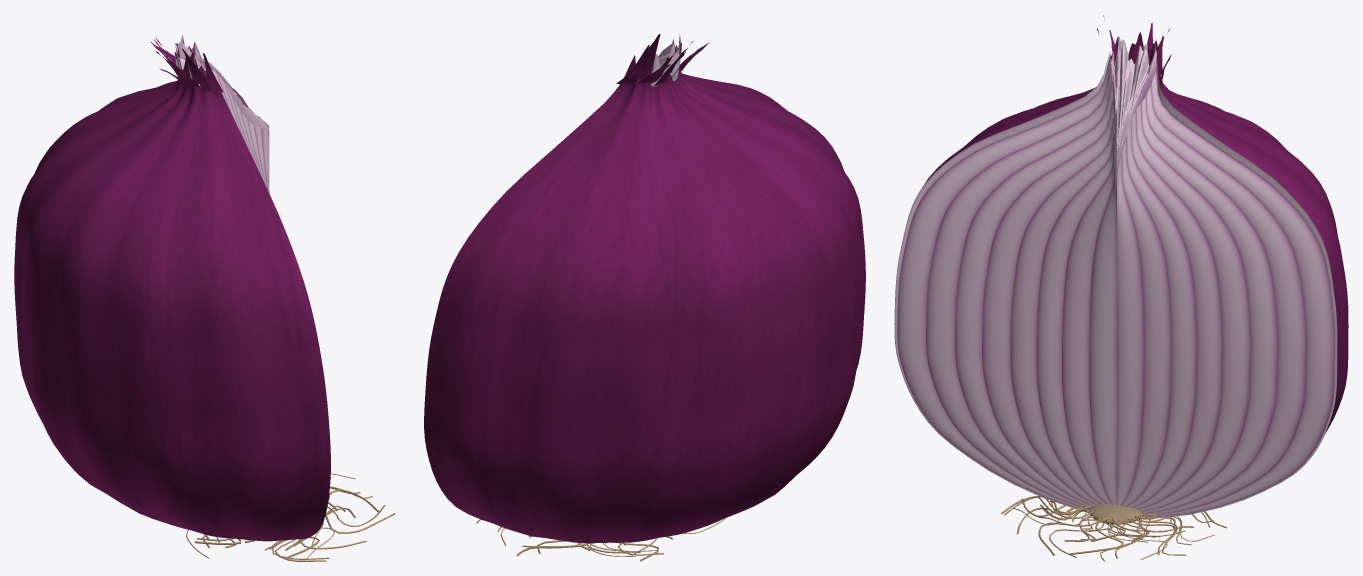
File: onion-reference-cutaway.glb
3 renders of one model, left to right at view 1: azimuth 30°, elevation 25°; view 2: azimuth 150°, elevation 25°; view 3: azimuth 270°, elevation 25°, orthographic. The views are drawn at different scales.
Visible parts, largest first — view 1: peelable-layer-0, root-fibers, papery-neck-frays; view 2: peelable-layer-0, papery-neck-frays, root-fibers; view 3: peelable-layer-1, peelable-layer-2, peelable-layer-3, peelable-layer-4, peelable-layer-5, peelable-layer-6, peelable-layer-7, peelable-layer-0, core, root-fibers, basal-root-plate.
Part boxes in pixels (x1,y1,x2,y2): peelable-layer-0: [14, 35, 330, 541]; root-fibers: [186, 473, 395, 561]; papery-neck-frays: [151, 37, 222, 93]; peelable-layer-0: [424, 34, 865, 543]; papery-neck-frays: [616, 34, 709, 86]; root-fibers: [476, 518, 725, 561]; peelable-layer-1: [897, 45, 1334, 517]; peelable-layer-2: [926, 57, 1305, 515]; peelable-layer-3: [955, 72, 1277, 513]; peelable-layer-4: [982, 87, 1250, 511]; peelable-layer-5: [1010, 99, 1222, 509]; peelable-layer-6: [1036, 115, 1196, 507]; peelable-layer-7: [1062, 128, 1171, 506]; peelable-layer-0: [894, 32, 1348, 519]; core: [1089, 142, 1144, 505]; root-fibers: [1001, 496, 1227, 561]; basal-root-plate: [1089, 504, 1143, 524].
Bounding box in the file's own units: 0.0836 × 0.126 × 0.111.
Materials: 14 (10 with a texture image).
